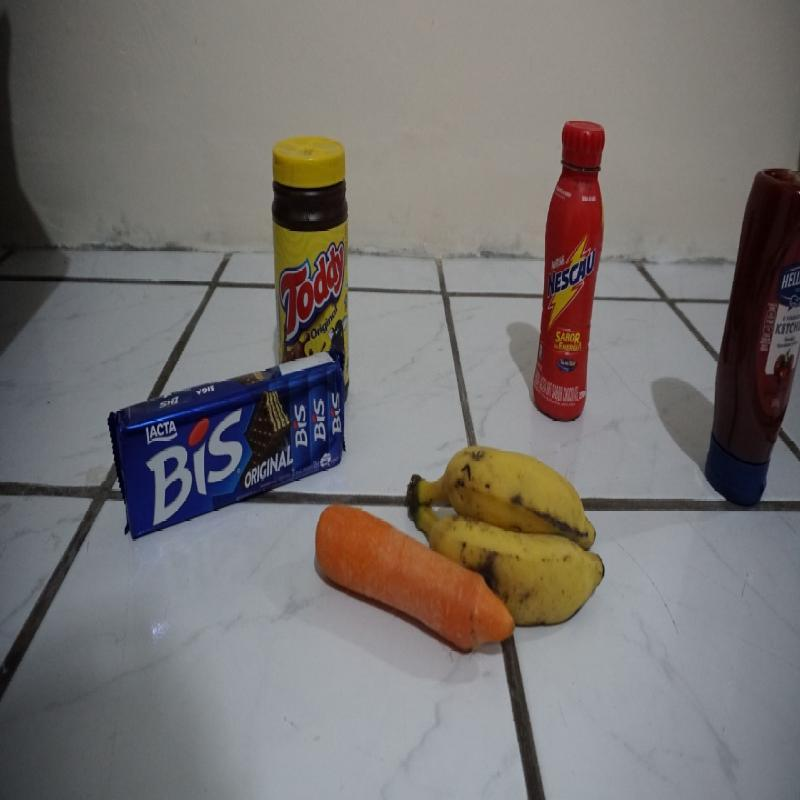Banana: (414, 443, 616, 565)
Carrot: (311, 504, 411, 614)
Chocolate Milk: (534, 118, 605, 414)
Chocolate Powder: (271, 136, 347, 347)
Ketchup: (708, 163, 798, 525)
